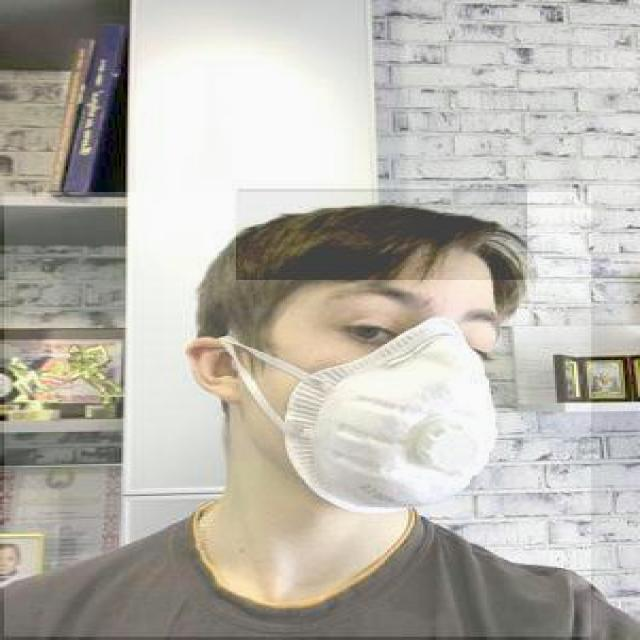face_mask: (259, 277, 504, 515)
head_nohelmet: (236, 189, 527, 280)
person: (2, 192, 591, 638)
